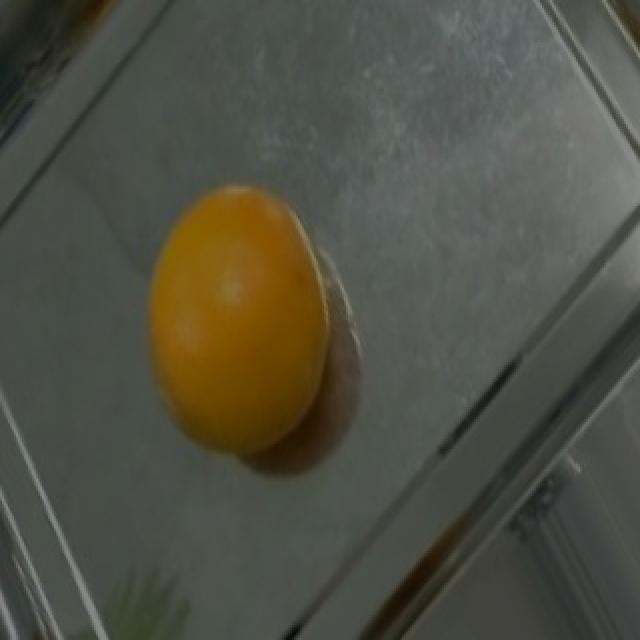Fruit: (118, 154, 358, 481)
